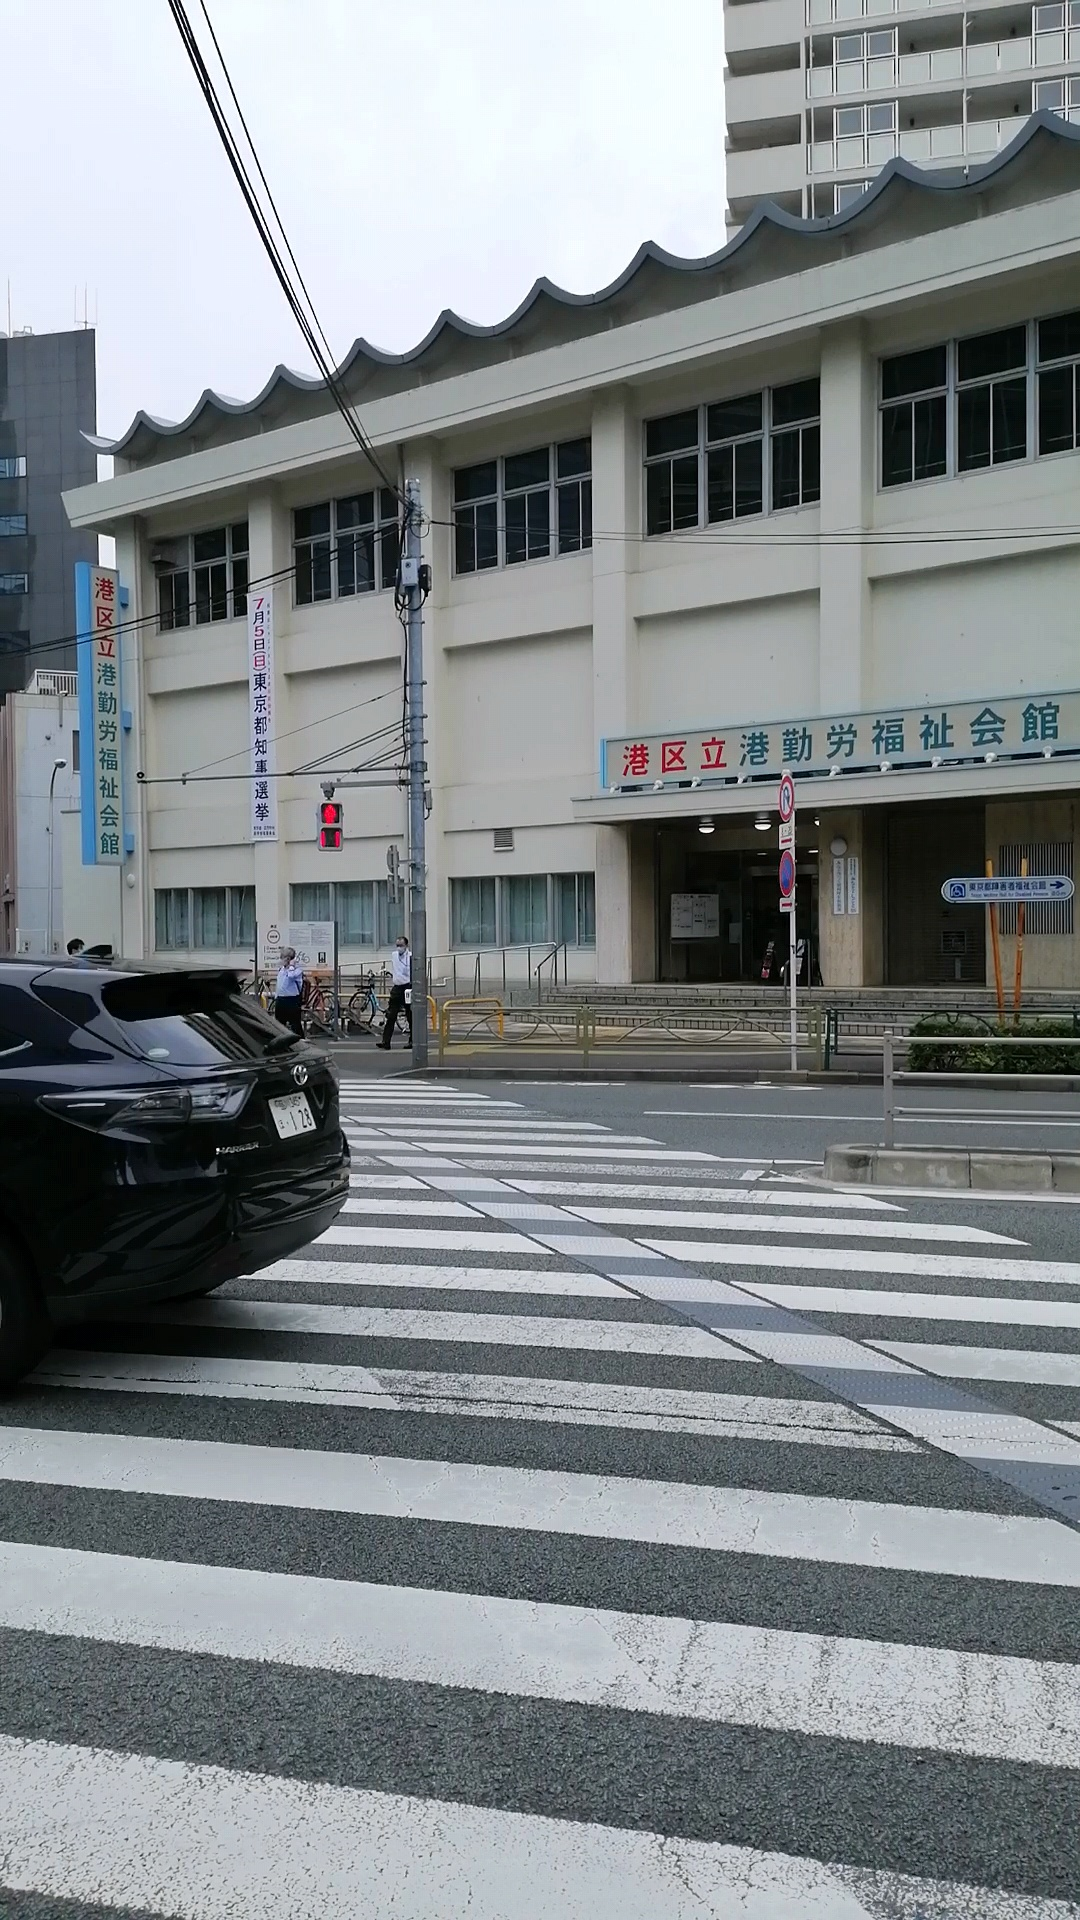red: (316, 800, 344, 853)
